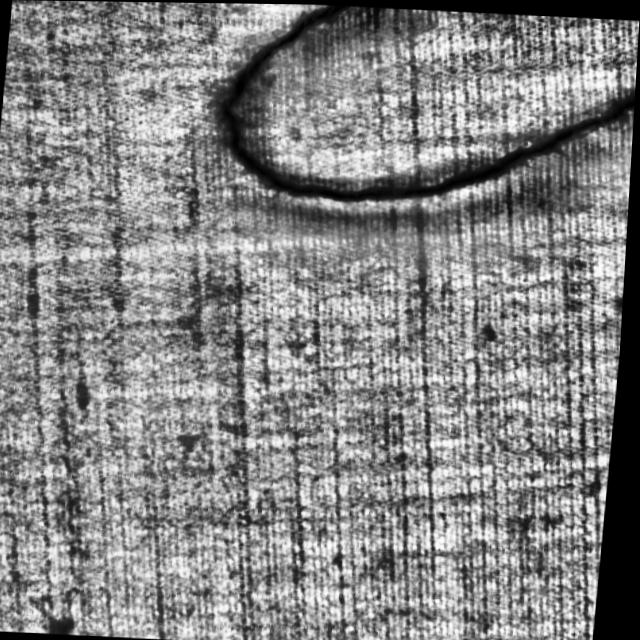Stitch: (206, 3, 640, 221)
